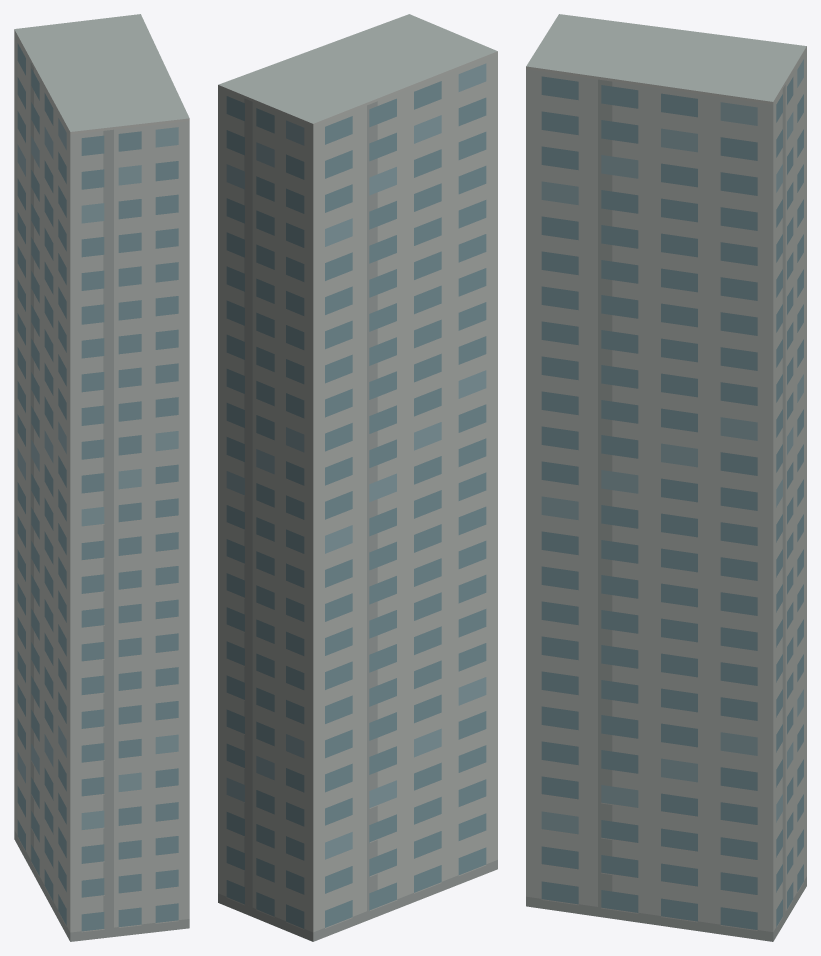
File: survey-upis-32737920.glb
3 renders of one model, left to right at view 1: azimuth 30°, elevation 25°; view 2: azimuth 150°, elevation 25°; view 3: azimuth 270°, elevation 25°, orthographic. The views are drawn at different scales.
Parts seen in each view (by area): view 1: survey-upis-32737920.tmp; view 2: survey-upis-32737920.tmp; view 3: survey-upis-32737920.tmp.
Boxes of the visible parts, bbox=[...] form: survey-upis-32737920.tmp: bbox=[14, 14, 189, 941]; survey-upis-32737920.tmp: bbox=[218, 14, 497, 941]; survey-upis-32737920.tmp: bbox=[526, 14, 806, 941].
Bounding box in the file's own units: 16.44 × 73.2 × 22.18.
